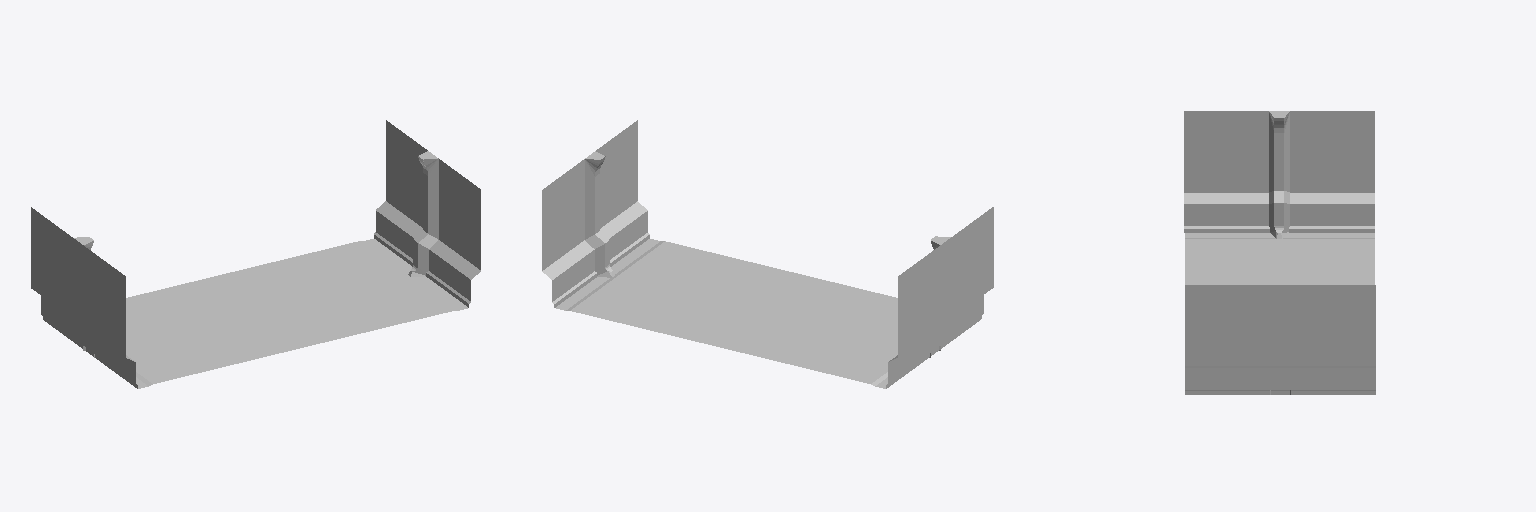
3 views of the same model, side by side, from view 1: azimuth 30°, elevation 25°; view 2: azimuth 150°, elevation 25°; view 3: azimuth 270°, elevation 25° (orthographic).
Visible parts, largest first — view 1: Segment_5 Components Full_Templates Templates; view 2: Segment_5 Components Full_Templates Templates; view 3: Segment_5 Components Full_Templates Templates.
Boxes of the visible parts, x1,y1,x2,y2 form: Segment_5 Components Full_Templates Templates: [31, 120, 480, 388]; Segment_5 Components Full_Templates Templates: [542, 120, 993, 388]; Segment_5 Components Full_Templates Templates: [1184, 111, 1375, 394].
Size of the model in its own units: 38.57 by 12 by 18.1.